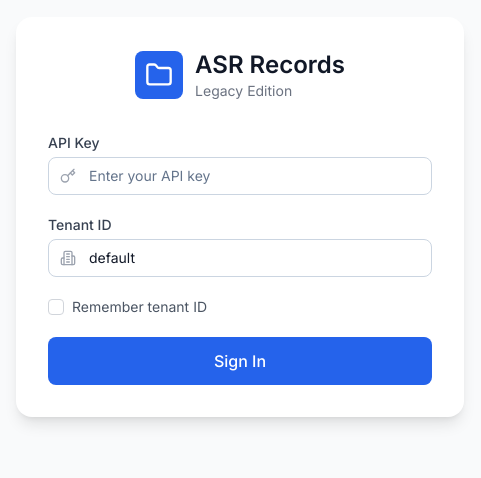
Scenario: Login page › shows error when submitting empty API key
Click the button "Sign In" at (240, 361), box [48, 337, 432, 385]
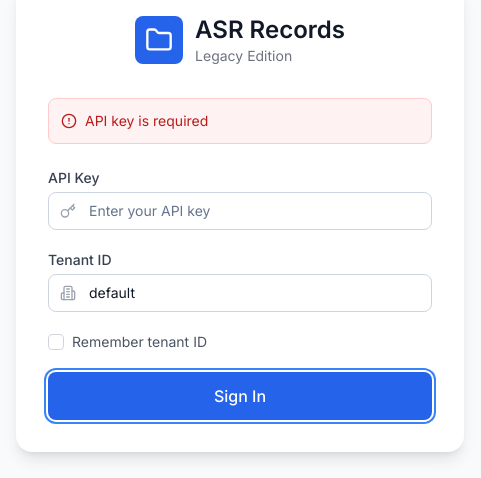
Result: the message reads "API key is required" at [85, 112, 208, 129]
